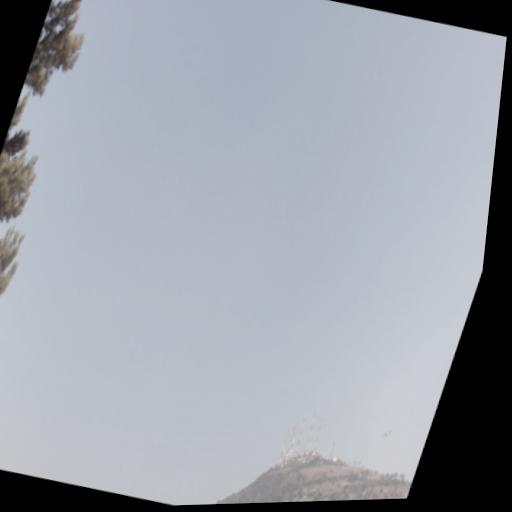drones: (379, 427, 393, 441)
